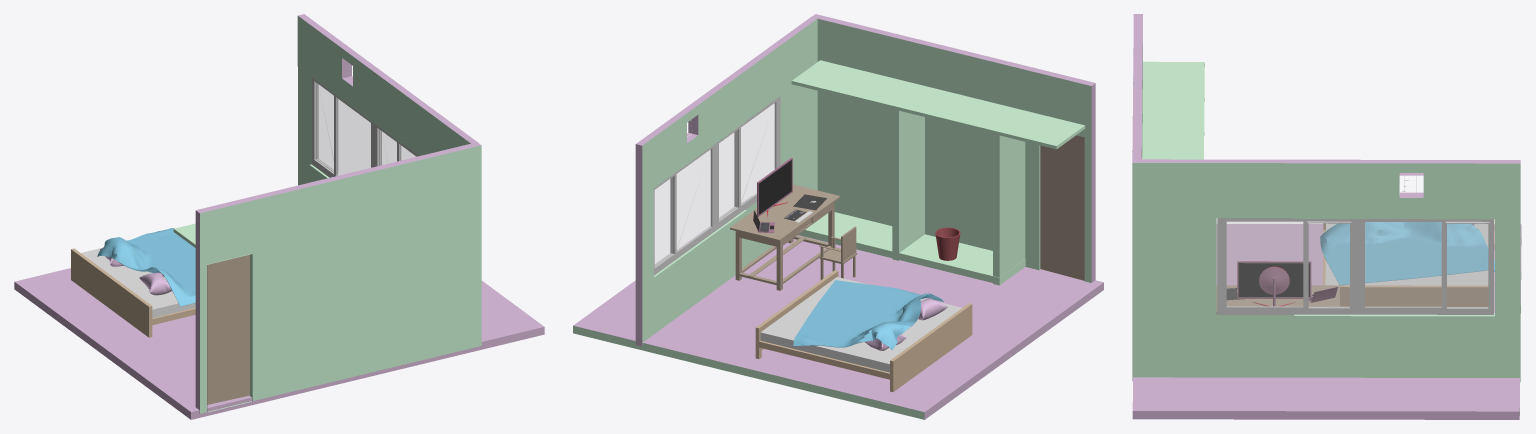
3 renders of one model, left to right at view 1: azimuth 30°, elevation 25°; view 2: azimuth 150°, elevation 25°; view 3: azimuth 270°, elevation 25°, orthographic. The views are drawn at different scales.
Visible parts, largest first — view 1: bin wall, floor, window_wall, door, bed, window_1, sheet, window_2, pillow_1; view 2: bin wall, floor, window_wall, bed, sheet, door, window_1, window_2, desk, monitor, chair, bin; view 3: window_wall, floor, window_2, window_1, bin wall, sheet, bed, monitor, desk.
Part boxes in pixels (x1,y1,x2,y2): bin wall: (173, 143, 481, 413); floor: (14, 268, 544, 419); window_wall: (297, 14, 478, 185); door: (207, 254, 249, 404); bed: (71, 248, 195, 337); window_1: (312, 77, 374, 177); sheet: (97, 228, 195, 306); window_2: (375, 124, 418, 166); pillow_1: (139, 272, 171, 295); bin wall: (791, 14, 1095, 285); floor: (573, 195, 1103, 419); window_wall: (635, 16, 818, 346); bed: (755, 270, 972, 391); sheet: (793, 280, 943, 350); door: (1040, 135, 1084, 280); window_1: (654, 143, 716, 275); window_2: (716, 96, 780, 229); desk: (730, 184, 840, 290); monitor: (757, 157, 792, 216); chair: (819, 226, 857, 279); bin: (935, 227, 960, 260); window_wall: (1139, 159, 1520, 382); floor: (1132, 224, 1521, 419); window_2: (1217, 218, 1355, 314); window_1: (1355, 219, 1493, 314); bin wall: (1132, 14, 1204, 381); sheet: (1320, 222, 1494, 285); bed: (1322, 219, 1494, 306); monitor: (1237, 261, 1311, 306); desk: (1216, 285, 1339, 313).
Size of the model in its own units: 46.31 by 25.64 by 40.57.
